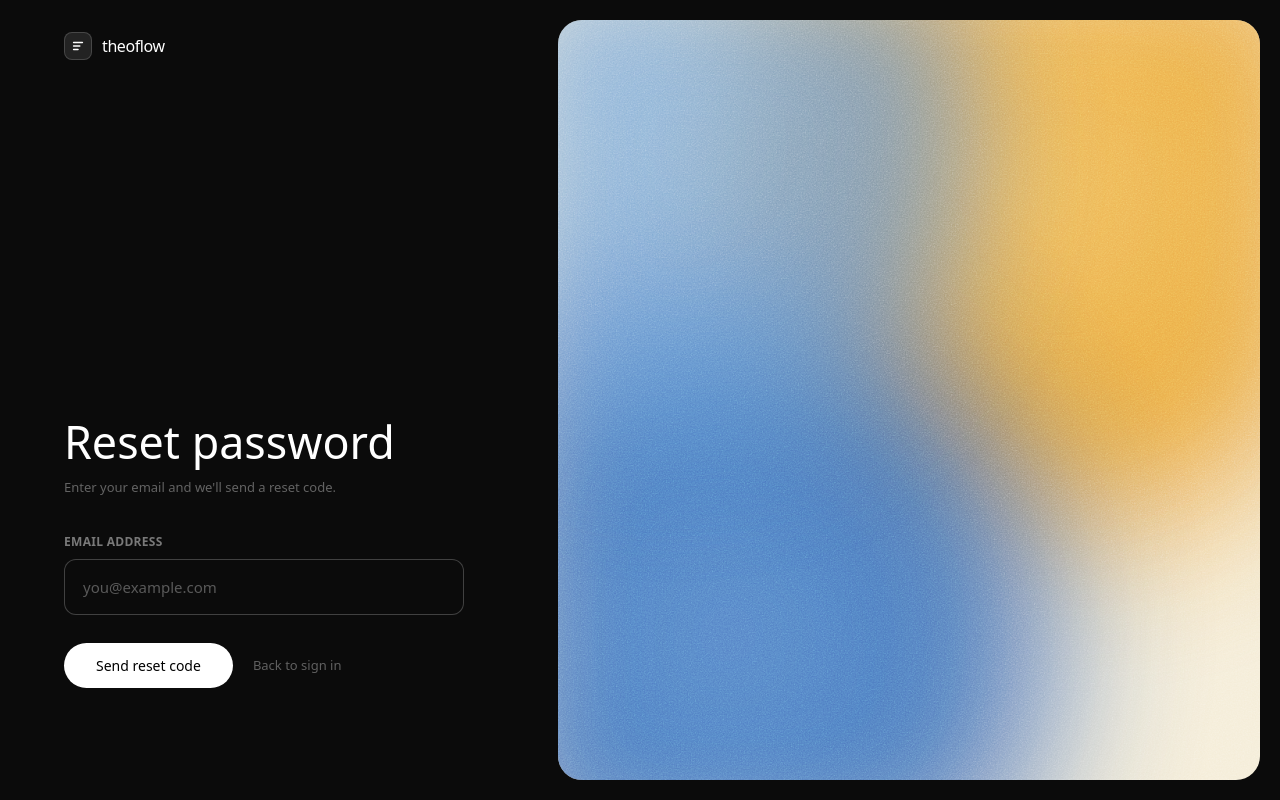
Scenario: ForgotPasswordPage › Phase 1 — Email entry › shows error when email is empty on submit
Click the button "Send reset code".
click(148, 666)  # box [64, 643, 233, 688]
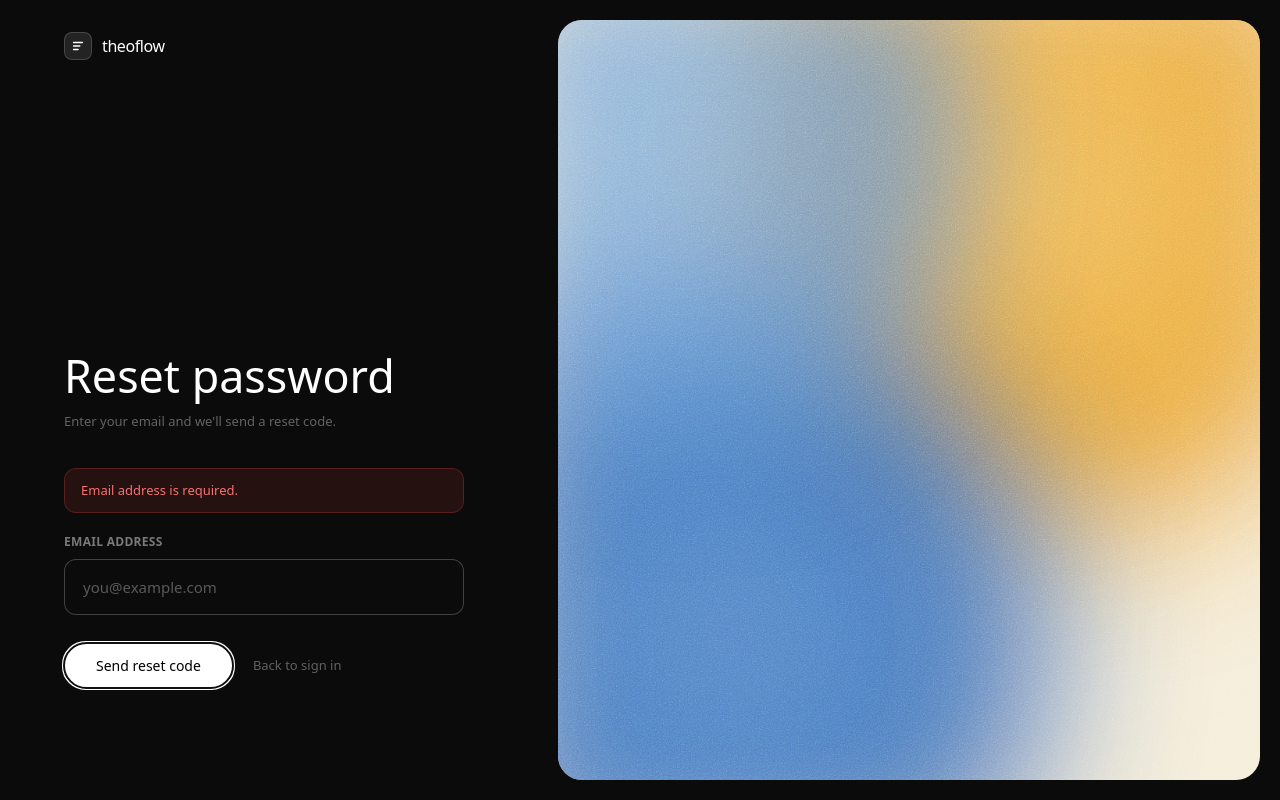
Result: the message shows "Email address is required" at [81, 480, 238, 498]
